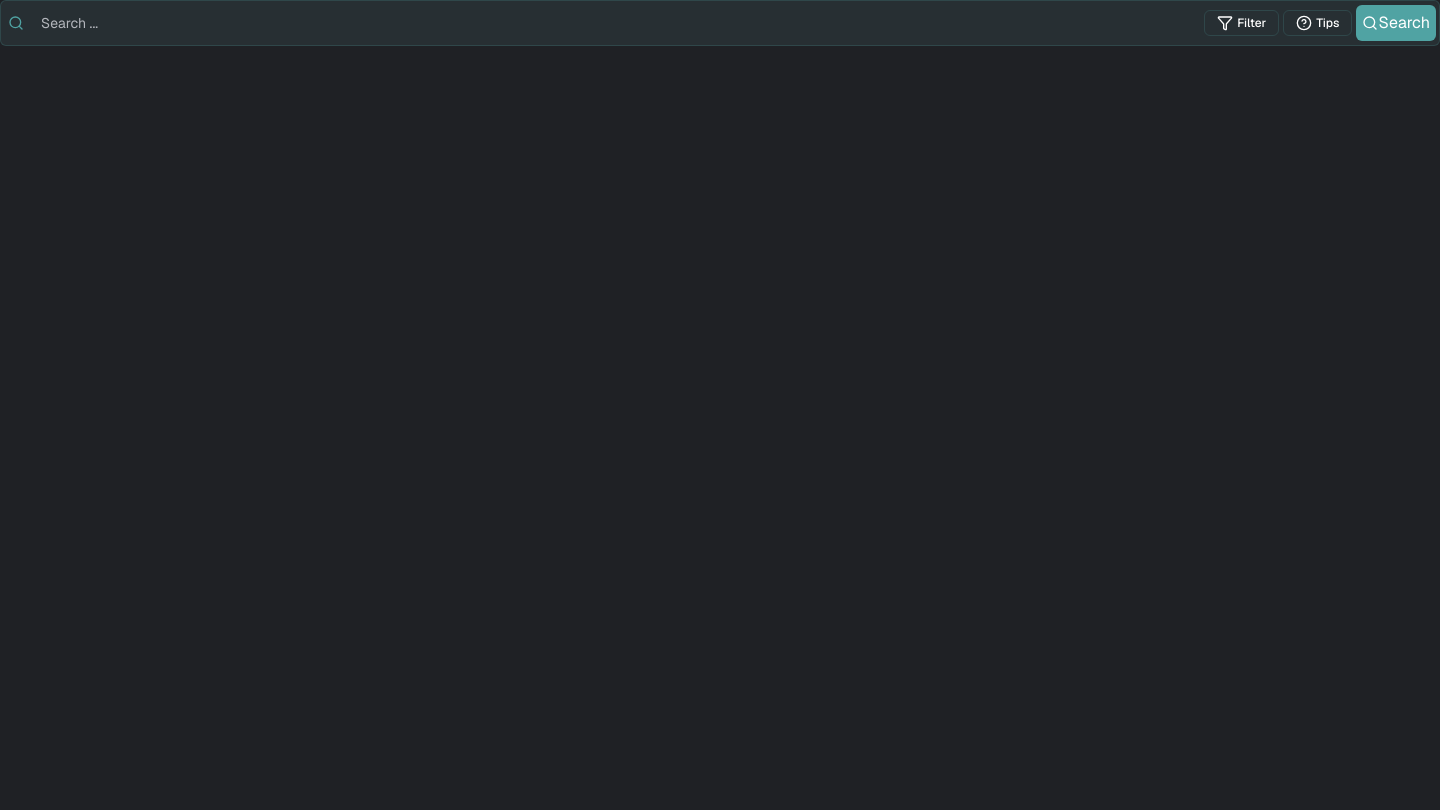
Test: SearchBar component › opens tips popover when Tips button is clicked
// Click the Tips button to open the popover
Click the button with aria-label "Search Tips" at (1318, 23), box [1283,10,1352,36]
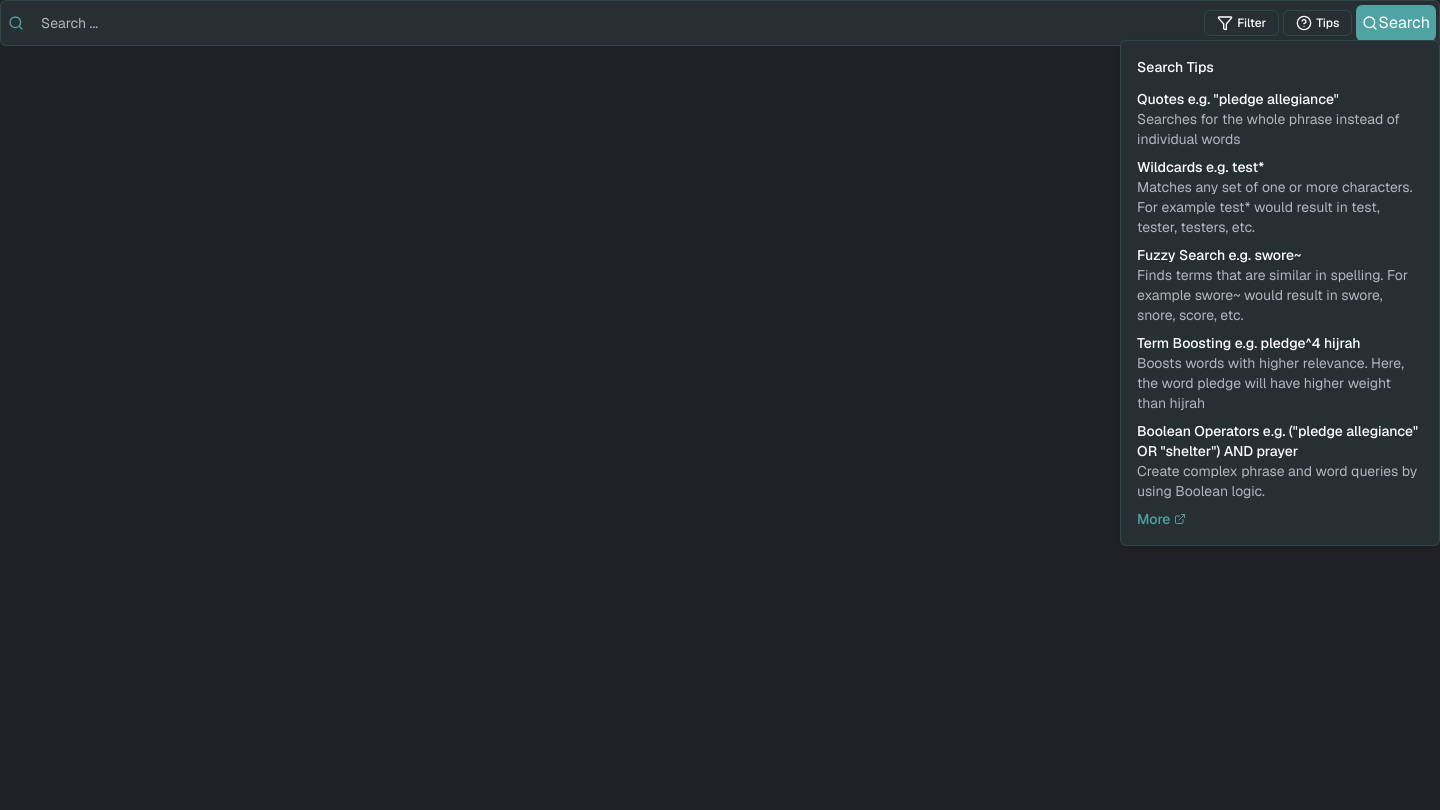
Now the heading "Search Tips" is shown, box [1137,58,1214,76]
Now the text "Quotes e.g. \"pledge allegiance\"" is shown, box [1137,90,1339,108]
Now the text "Wildcards e.g. test*" is shown, box [1137,158,1264,176]
